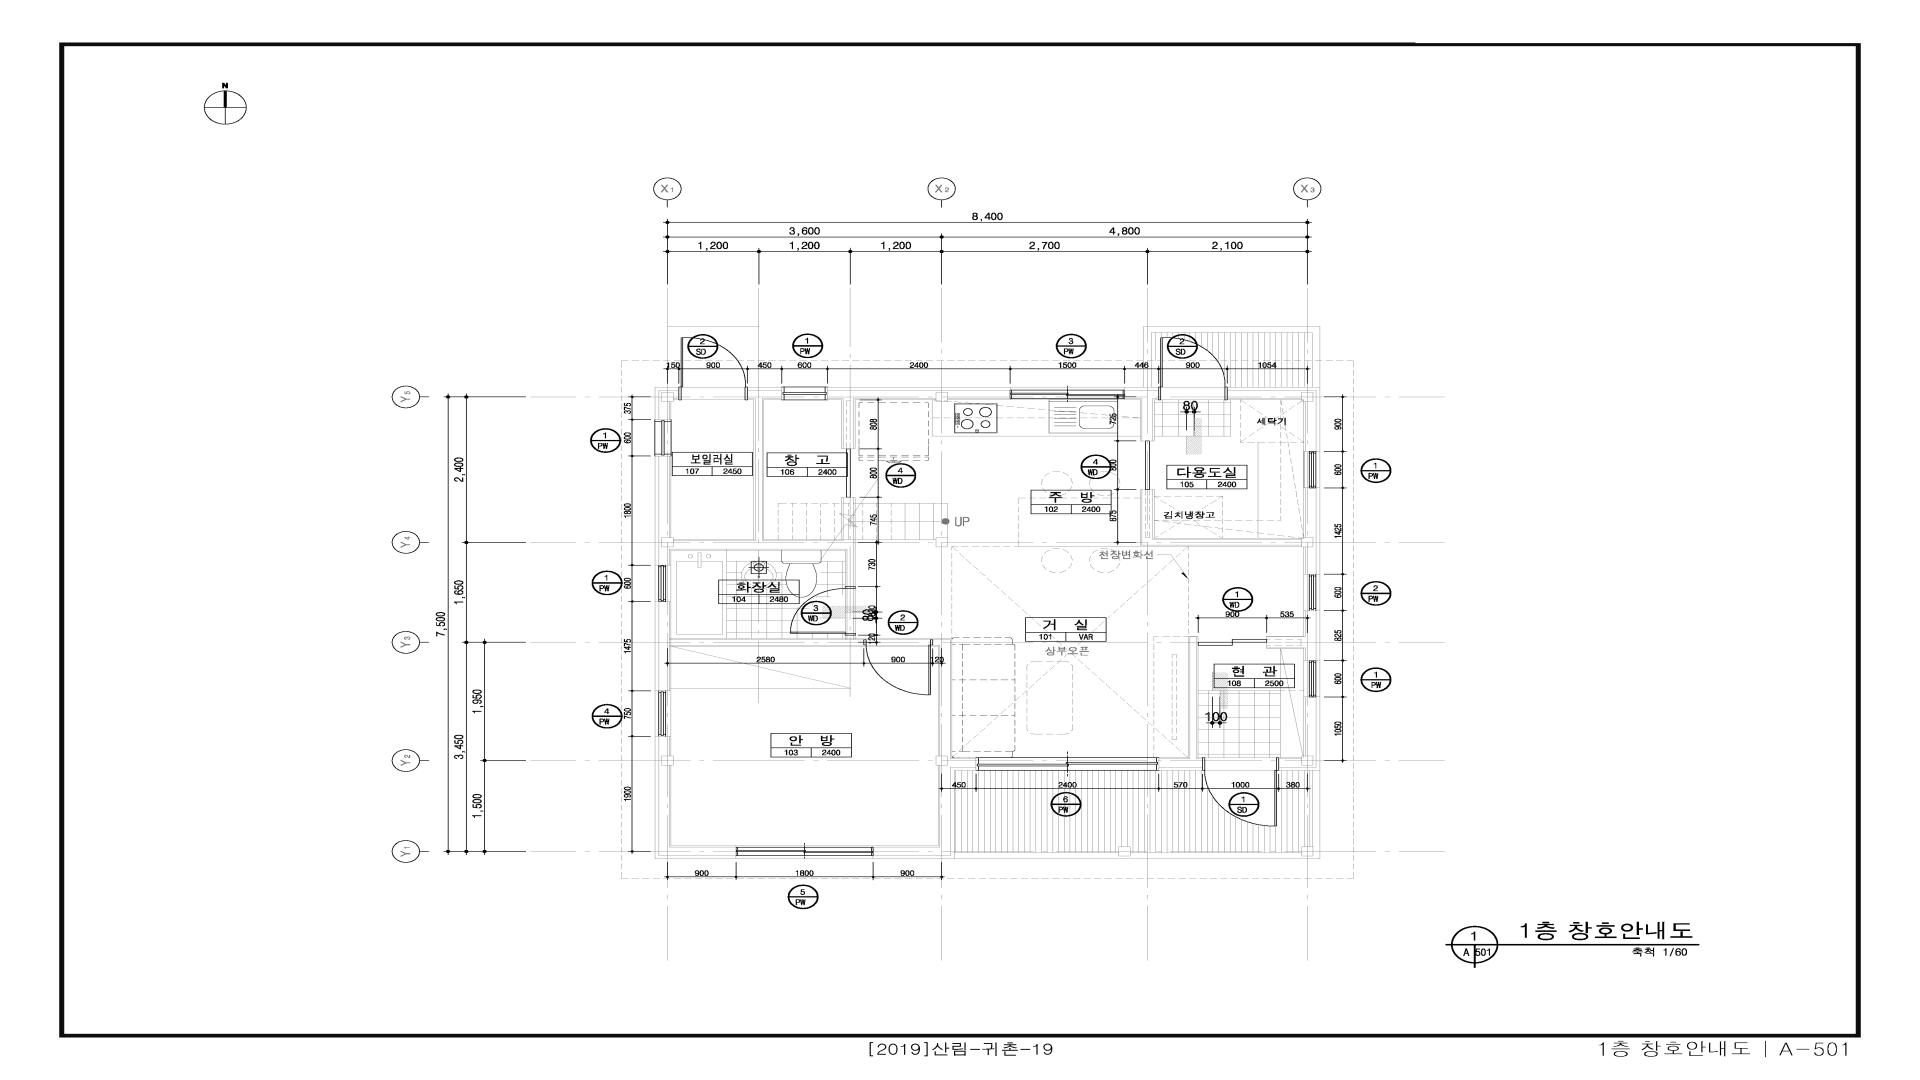door: (1201, 757, 1279, 827), (678, 336, 748, 401), (1158, 338, 1228, 401), (864, 640, 934, 694), (790, 585, 856, 636), (976, 757, 1159, 770), (1196, 640, 1266, 646), (1145, 440, 1150, 489), (847, 448, 851, 497)
wall: (655, 386, 853, 585), (955, 770, 1320, 858), (873, 640, 976, 858), (655, 601, 864, 691), (1142, 488, 1320, 574), (828, 388, 1010, 448), (655, 736, 736, 858), (1228, 388, 1320, 451), (1159, 637, 1201, 770), (1279, 698, 1320, 770), (1267, 611, 1320, 661), (1125, 388, 1158, 440), (655, 388, 678, 419)
window: (736, 845, 873, 858), (1010, 386, 1125, 400), (655, 691, 671, 736), (782, 386, 828, 401), (654, 419, 671, 456), (1304, 451, 1320, 488), (1304, 574, 1320, 611), (1304, 661, 1320, 696), (655, 566, 671, 601)
